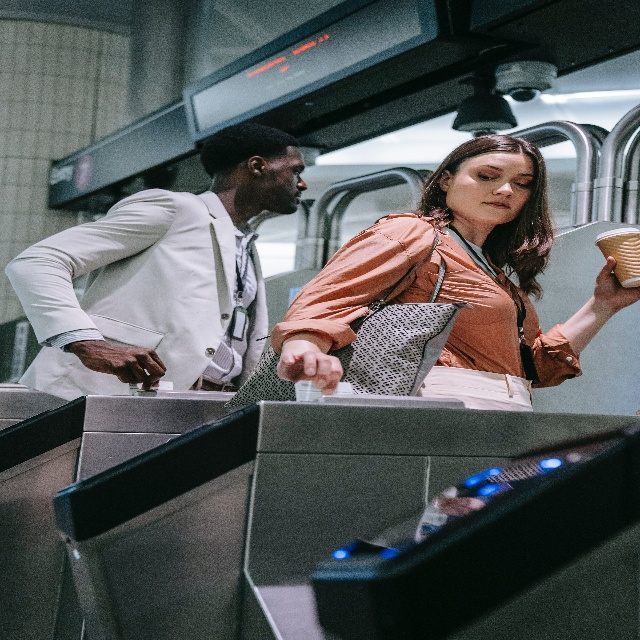Sin_guantes: (80, 336, 168, 390), (276, 348, 344, 398), (594, 254, 640, 317)
